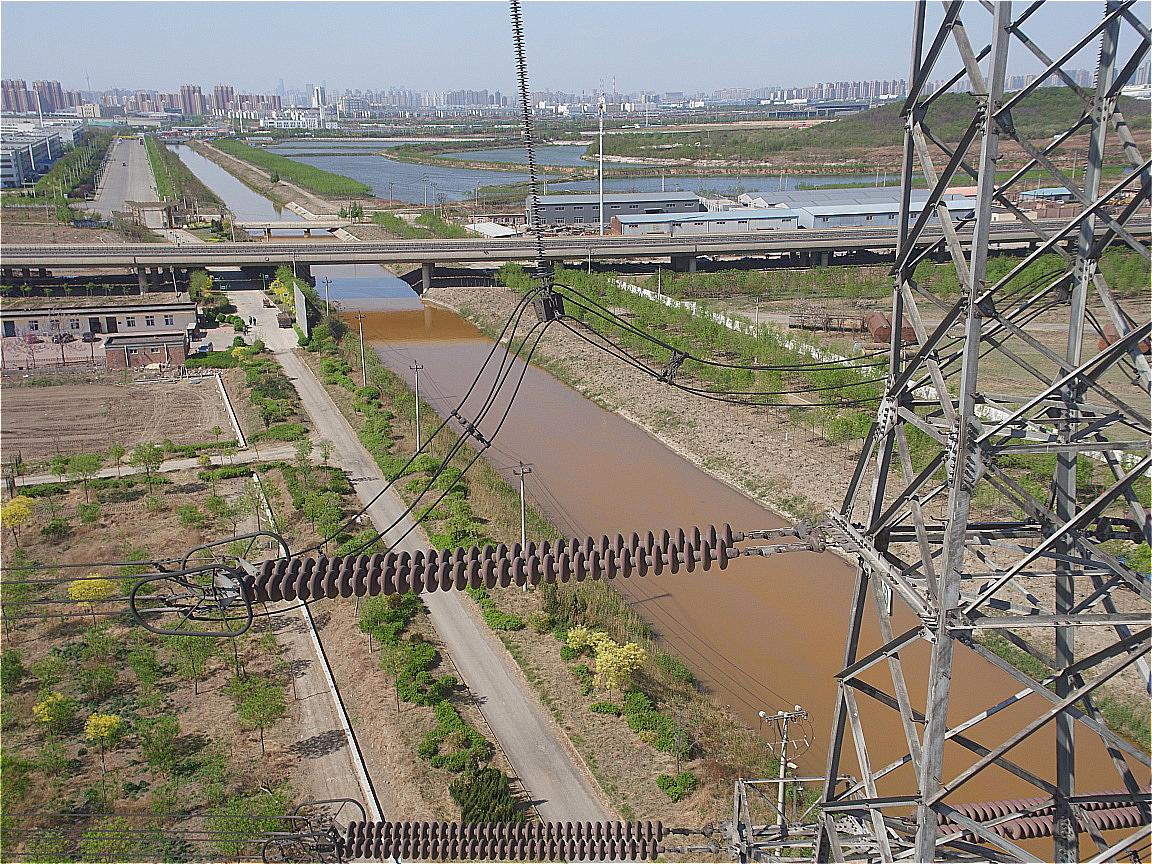insultor1: (242, 522, 733, 603), (347, 820, 667, 860)
